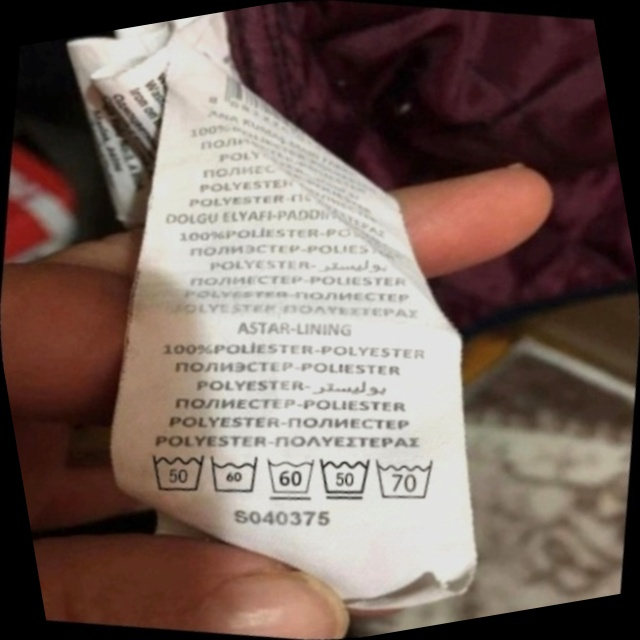50C: (127, 424, 228, 519), (299, 433, 393, 524)
60C: (247, 434, 337, 521), (191, 432, 280, 518)
70C: (358, 433, 458, 524)
